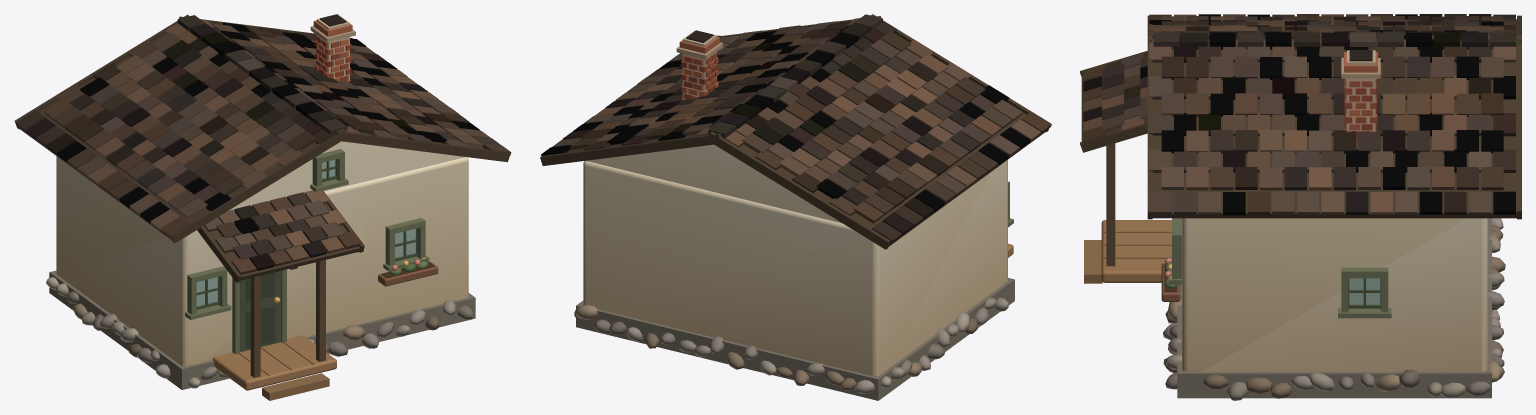
The model's file is farmhouse.m1.glb.
3 views of the same model, side by side, from view 1: azimuth 30°, elevation 25°; view 2: azimuth 150°, elevation 25°; view 3: azimuth 270°, elevation 25° (orthographic). The views are drawn at different scales.
Visible parts, largest first — view 1: farmhouse.batch.0, farmhouseWalls, farmhouseFoundation, farmhouse.batch.1, farmhouse.batch.2, porch, frontDoor, chimney, windowPane (×2); view 2: farmhouseWalls, farmhouse.batch.0, farmhouseFoundation, chimney; view 3: farmhouse.batch.0, farmhouseWalls, farmhouseFoundation, porch, farmhouse.batch.1, chimney, farmhouse.batch.2, windowPane.
Boxes of the visible parts, x1,y1,x2,y2 form: farmhouse.batch.0: [14, 14, 511, 282]; farmhouseWalls: [56, 141, 468, 366]; farmhouseFoundation: [46, 270, 475, 389]; farmhouse.batch.1: [238, 257, 438, 400]; farmhouse.batch.2: [185, 149, 429, 319]; porch: [212, 335, 336, 390]; frontDoor: [232, 269, 286, 354]; chimney: [310, 14, 355, 82]; windowPane (×2): [196, 229, 416, 306]; farmhouseWalls: [583, 144, 1007, 376]; farmhouse.batch.0: [540, 14, 1051, 249]; farmhouseFoundation: [574, 278, 1014, 400]; chimney: [676, 30, 723, 100]; farmhouse.batch.0: [1080, 14, 1521, 219]; farmhouseWalls: [1182, 218, 1487, 371]; farmhouseFoundation: [1163, 218, 1505, 400]; porch: [1101, 220, 1171, 282]; farmhouse.batch.1: [1084, 143, 1180, 301]; chimney: [1341, 50, 1380, 137]; farmhouse.batch.2: [1168, 218, 1391, 318]; windowPane: [1349, 278, 1380, 304].
Size of the model in its own units: 8.57 by 6.26 by 8.09.
